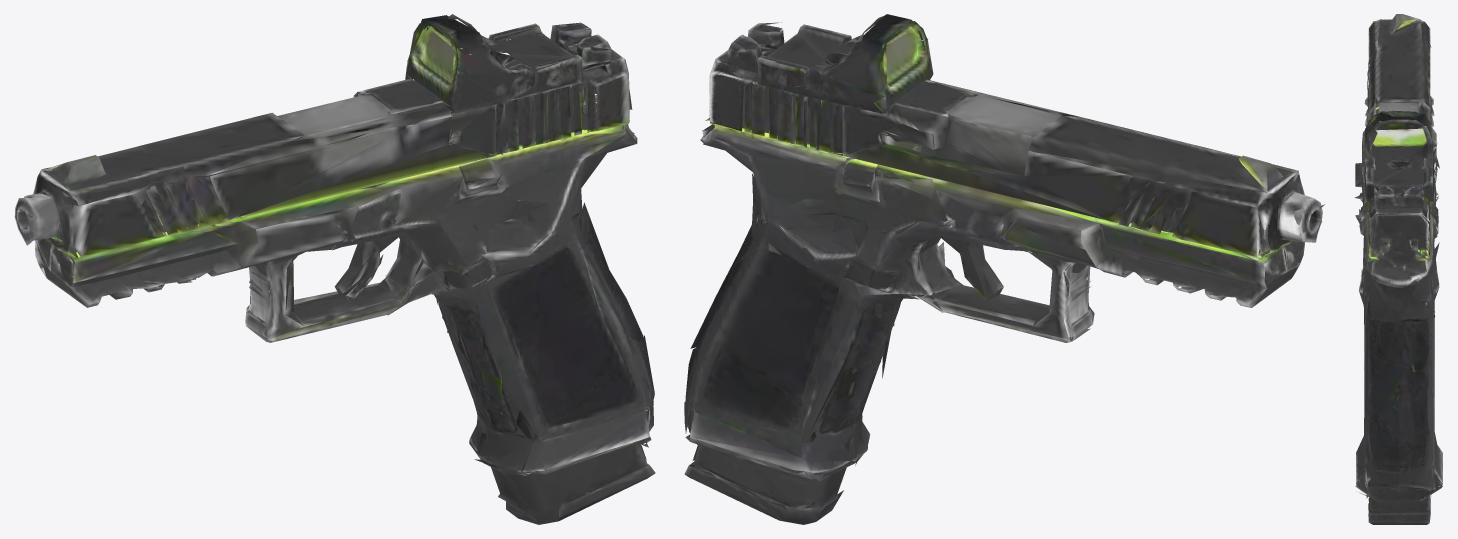
The model's file is gun_pistol_lo.glb.
3 views of the same model, side by side, from view 1: azimuth 30°, elevation 25°; view 2: azimuth 150°, elevation 25°; view 3: azimuth 270°, elevation 25° (orthographic). The views are drawn at different scales.
Parts seen in each view (by area): view 1: Mesh_0; view 2: Mesh_0; view 3: Mesh_0.
Part boxes in pixels (x1,y1,x2,y2): Mesh_0: [14, 14, 655, 524]; Mesh_0: [684, 14, 1324, 524]; Mesh_0: [1354, 14, 1442, 524].
Size of the model in its own units: 1.93 by 1.48 by 0.3268.
Materials: 1 (1 with a texture image).
